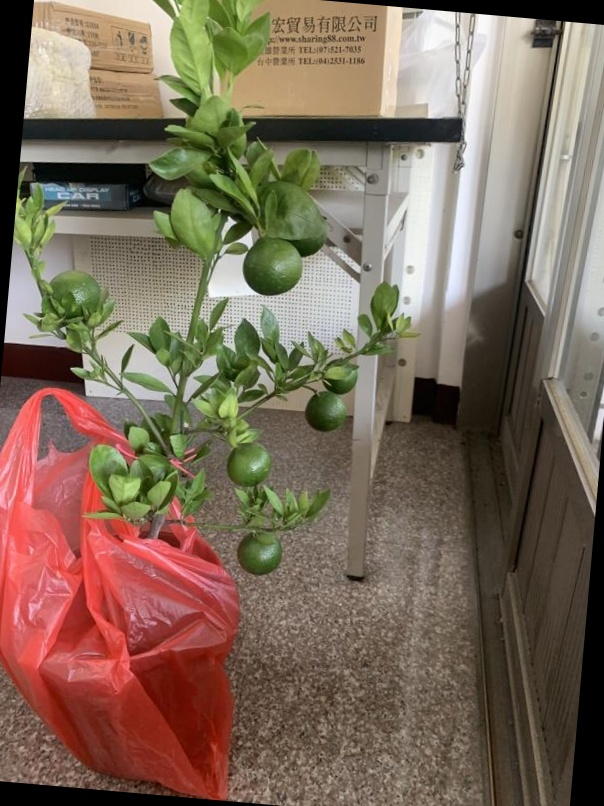Tangerine: (243, 233, 303, 298), (226, 441, 273, 490), (234, 529, 285, 574), (301, 388, 349, 433)
